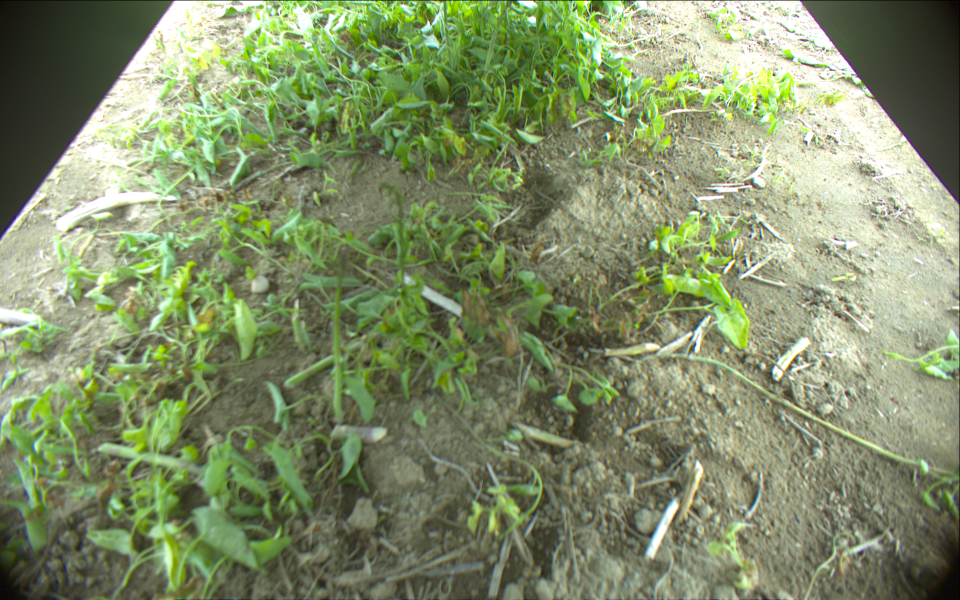aspa: (649, 351, 928, 472), (286, 332, 375, 387), (98, 443, 212, 478), (334, 243, 348, 423), (441, 1, 453, 63)
